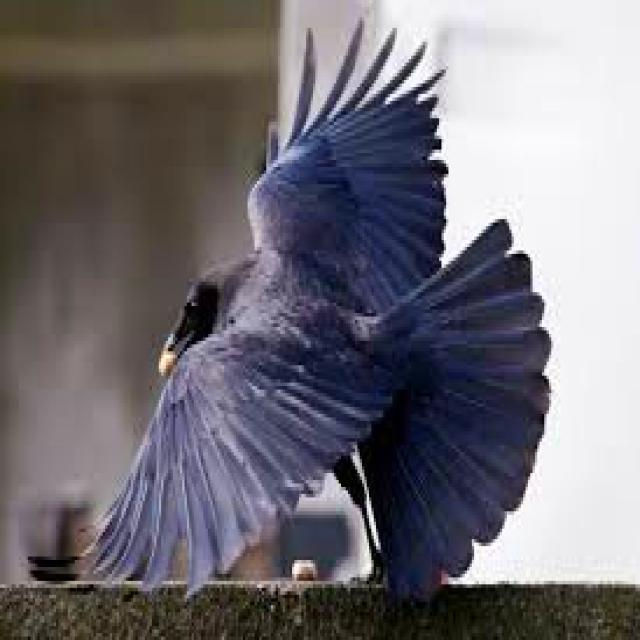crow: (96, 24, 549, 595)
